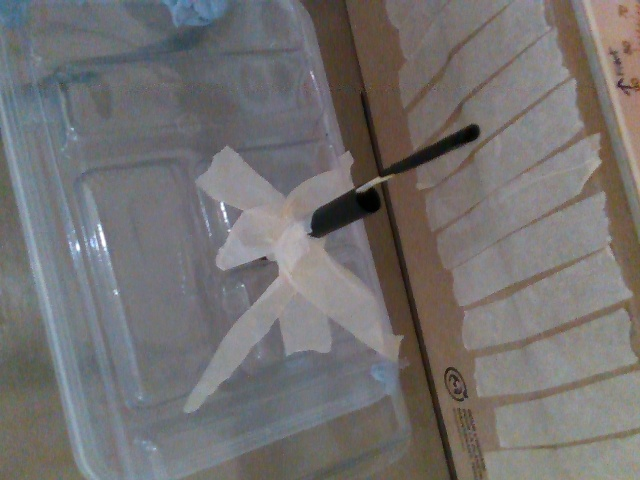test_strip: (355, 122, 478, 192)
